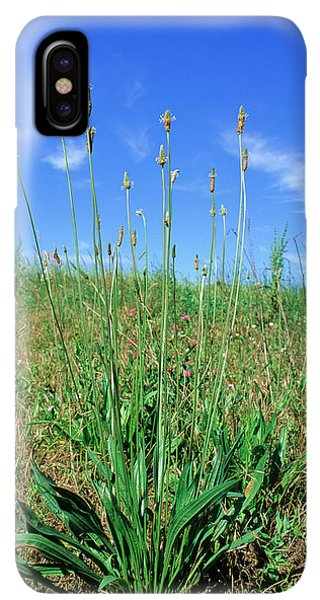buckhorn plantain: (34, 111, 245, 593)
